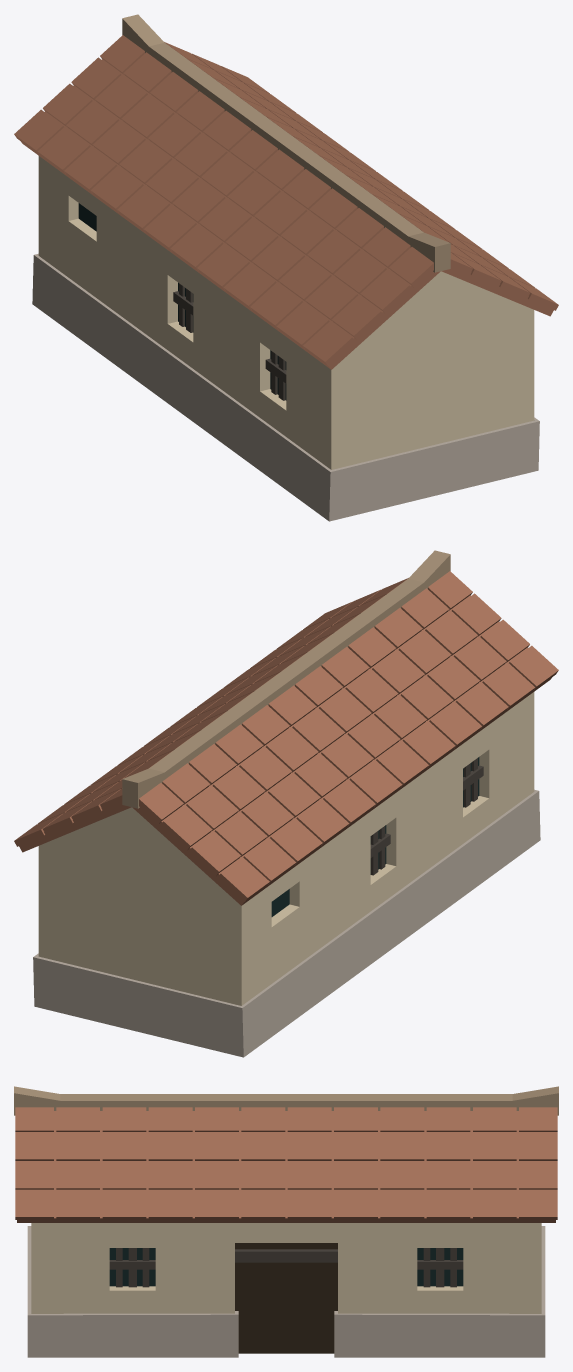
The model's file is Building_mode_L2_Northhouse009.fbx.
3 views of the same model, one above another, from view 1: azimuth 30°, elevation 25°; view 2: azimuth 150°, elevation 25°; view 3: azimuth 270°, elevation 25° (orthographic). The views are drawn at different scales.
Parts seen in each view (by area): view 1: Building_mode_L2_Northhouse009; view 2: Building_mode_L2_Northhouse009; view 3: Building_mode_L2_Northhouse009.
Part boxes in pixels (x1,y1,x2,y2): Building_mode_L2_Northhouse009: [14, 14, 558, 521]; Building_mode_L2_Northhouse009: [14, 550, 558, 1057]; Building_mode_L2_Northhouse009: [14, 1086, 558, 1357].
Size of the model in its own units: 2.79 by 2.93 by 6.47.
